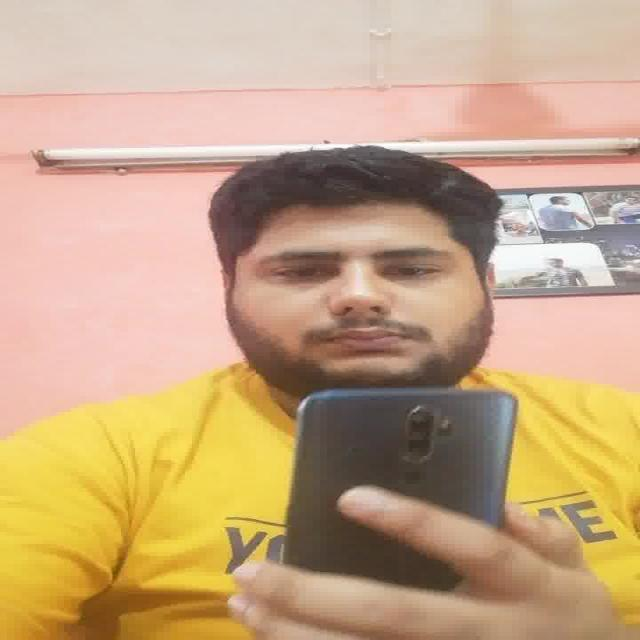Phone: (276, 385, 525, 592)
